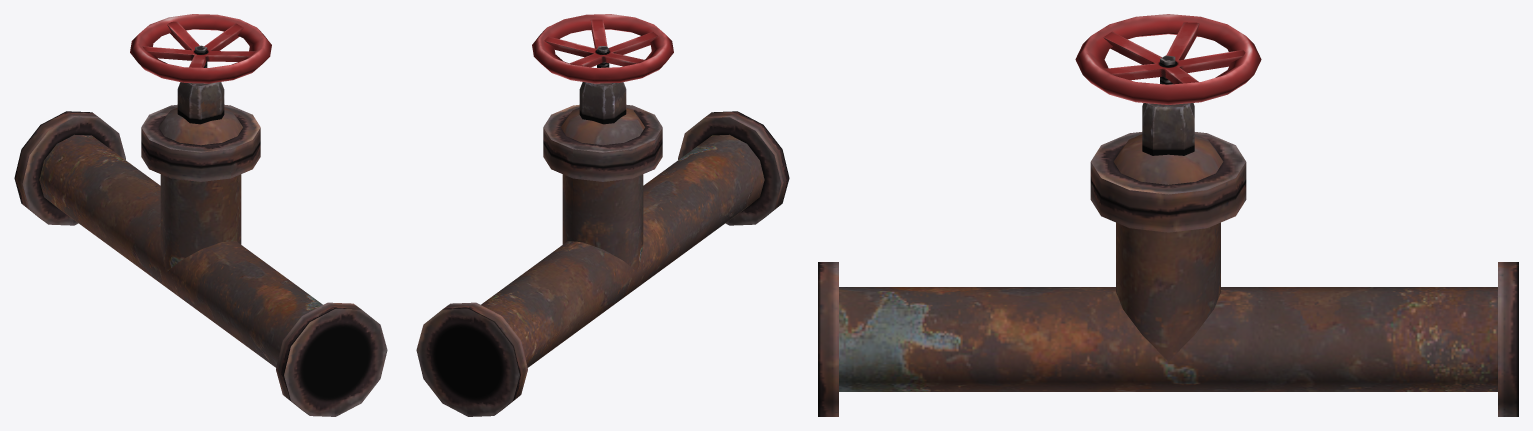
Rendered from pipe01_valve01.FBX.
3 views of the same model, side by side, from view 1: azimuth 30°, elevation 25°; view 2: azimuth 150°, elevation 25°; view 3: azimuth 270°, elevation 25° (orthographic). The views are drawn at different scales.
Visible parts, largest first — view 1: pipe01_valve01, pipe01_valve01_wheel; view 2: pipe01_valve01, pipe01_valve01_wheel; view 3: pipe01_valve01, pipe01_valve01_wheel.
Part boxes in pixels (x1=…): pipe01_valve01: x1=14, y1=82, x2=387, y2=416; pipe01_valve01_wheel: x1=130, y1=14, x2=271, y2=83; pipe01_valve01: x1=416, y1=82, x2=789, y2=416; pipe01_valve01_wheel: x1=532, y1=14, x2=673, y2=83; pipe01_valve01: x1=818, y1=103, x2=1518, y2=416; pipe01_valve01_wheel: x1=1075, y1=14, x2=1261, y2=104.
Size of the model in its own units: 26.58 by 56.78 by 100.
